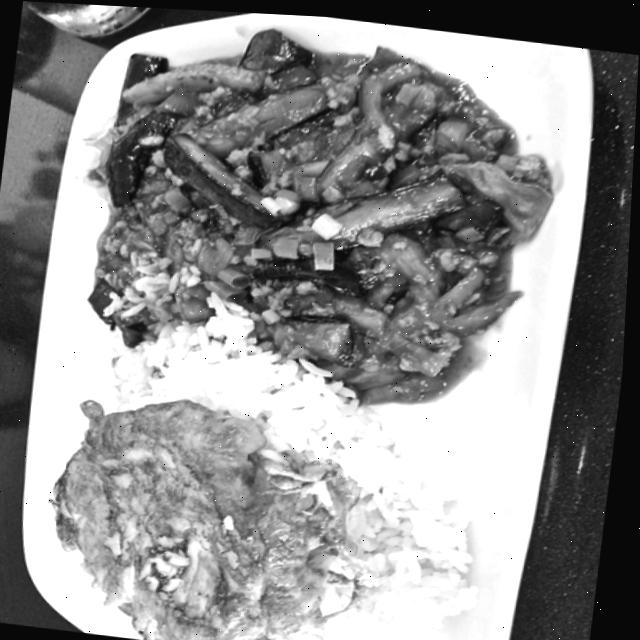鸡蛋料理: (8, 1, 576, 640)
